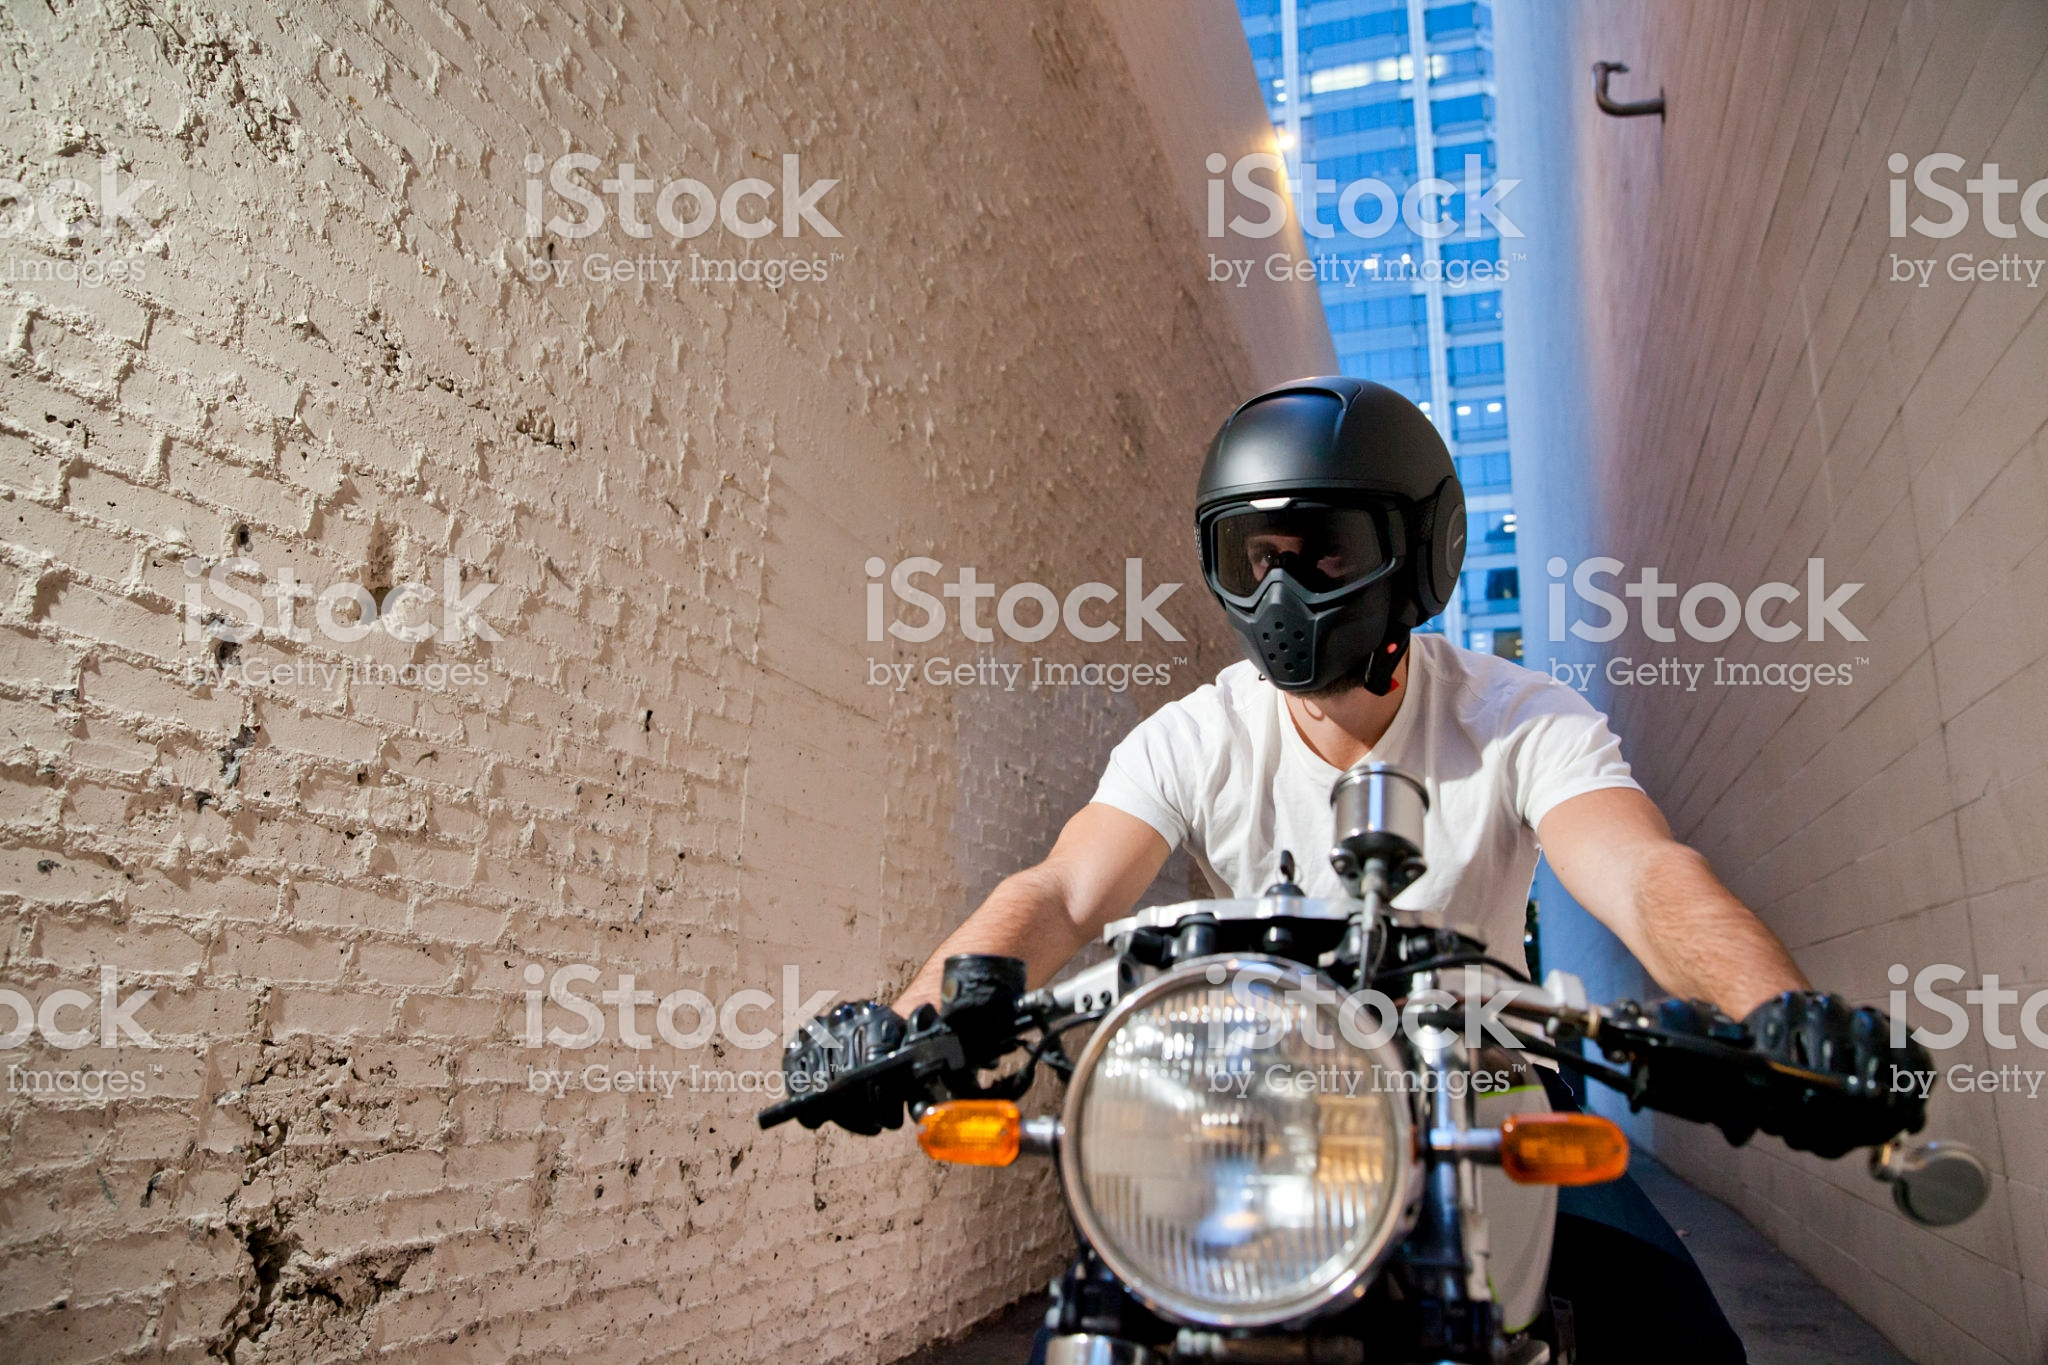helmet: (1192, 390, 1500, 718)
